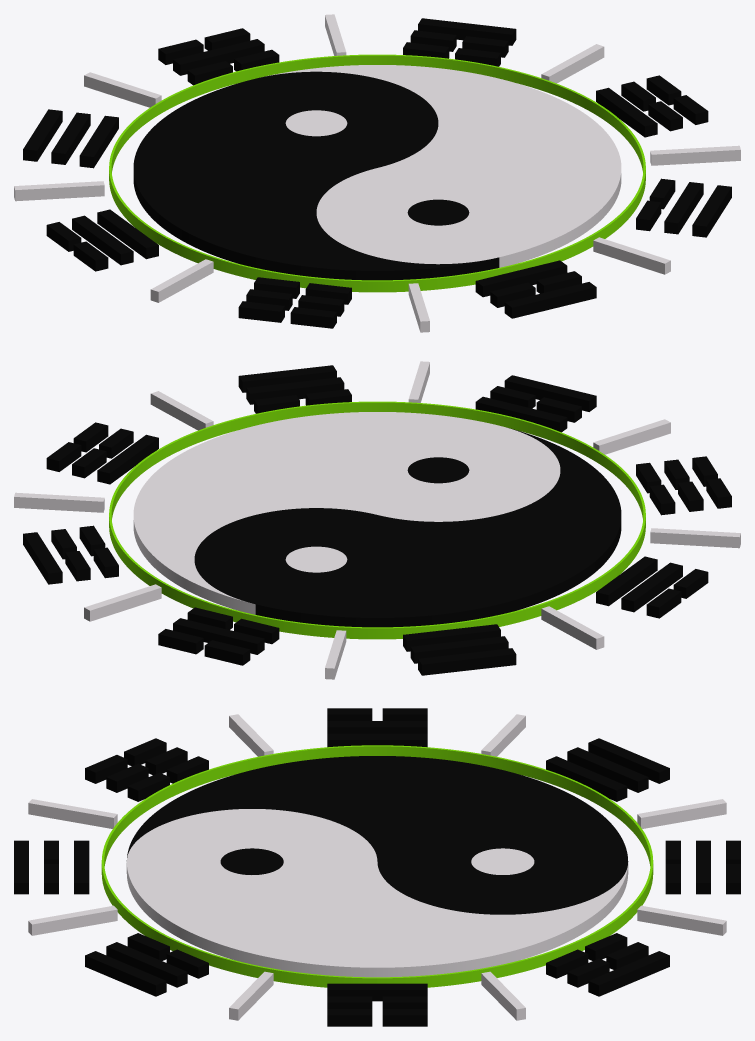
The model's file is BL BAGUA.fbx.
3 views of the same model, one above another, from view 1: azimuth 30°, elevation 25°; view 2: azimuth 150°, elevation 25°; view 3: azimuth 270°, elevation 25° (orthographic). The views are drawn at different scales.
Parts seen in each view (by area): view 1: 物件_6, 物件_4, 物件_7, 物件_11, 物件_30, 物件_38, 物件_43, 物件_23, 物件_48, 物件_17, 物件_44, 物件_29 (+2 smaller); view 2: 物件_6, 物件_4, 物件_7, 物件_11, 物件_44, 物件_48, 物件_43, 物件_30, 物件_23, 物件_29, 物件_17, 物件_38 (+2 smaller); view 3: 物件_4, 物件_6, 物件_7, 物件_11, 物件_29, 物件_17, 物件_44, 物件_38, 物件_23, 物件_43, 物件_30, 物件_48 (+2 smaller).
Boxes of the visible parts, x1,y1,x2,y2 form: 物件_6: (133,71,499,280); 物件_4: (266,65,621,267); 物件_7: (109,54,645,292); 物件_11: (14,14,740,332); 物件_30: (475,260,596,318); 物件_38: (238,277,351,328); 物件_43: (46,209,158,271); 物件_23: (596,75,708,137); 物件_48: (158,28,279,85); 物件_17: (403,18,516,66); 物件_44: (23,109,118,168); 物件_29: (636,178,731,237); 物件_6: (194,428,621,627); 物件_4: (133,412,560,614); 物件_7: (109,401,645,639); 物件_11: (14,361,740,679); 物件_44: (403,624,516,675); 物件_48: (158,607,279,665); 物件_43: (596,556,708,618); 物件_30: (475,375,596,432); 物件_23: (46,422,158,484); 物件_29: (238,365,351,413); 物件_17: (23,525,118,584); 物件_38: (636,456,731,515); 物件_4: (126,809,628,977); 物件_6: (126,756,628,914); 物件_7: (101,745,653,987); 物件_11: (28,714,726,1020); 物件_29: (85,933,208,996); 物件_17: (546,933,669,996); 物件_44: (546,738,669,801); 物件_38: (85,738,208,801); 物件_23: (327,983,427,1026); 物件_43: (327,708,427,747); 物件_30: (14,840,89,894); 物件_48: (665,840,740,894).
Size of the model in its own units: 290 by 5 by 290.
